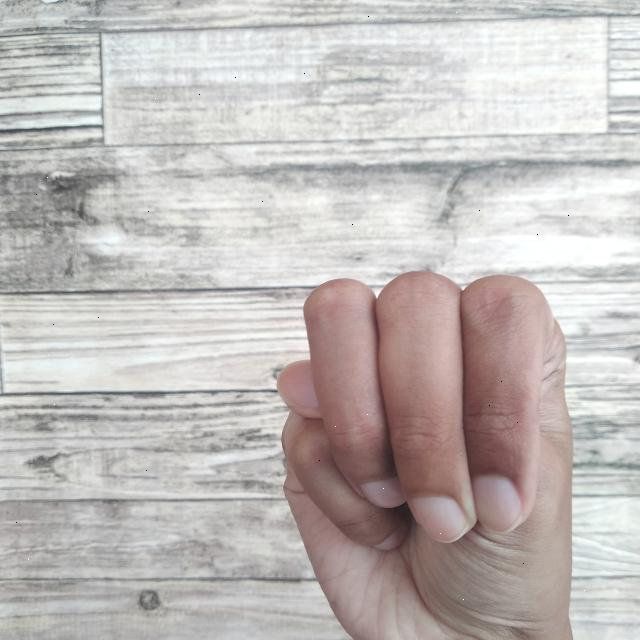M: (270, 263, 579, 640)
